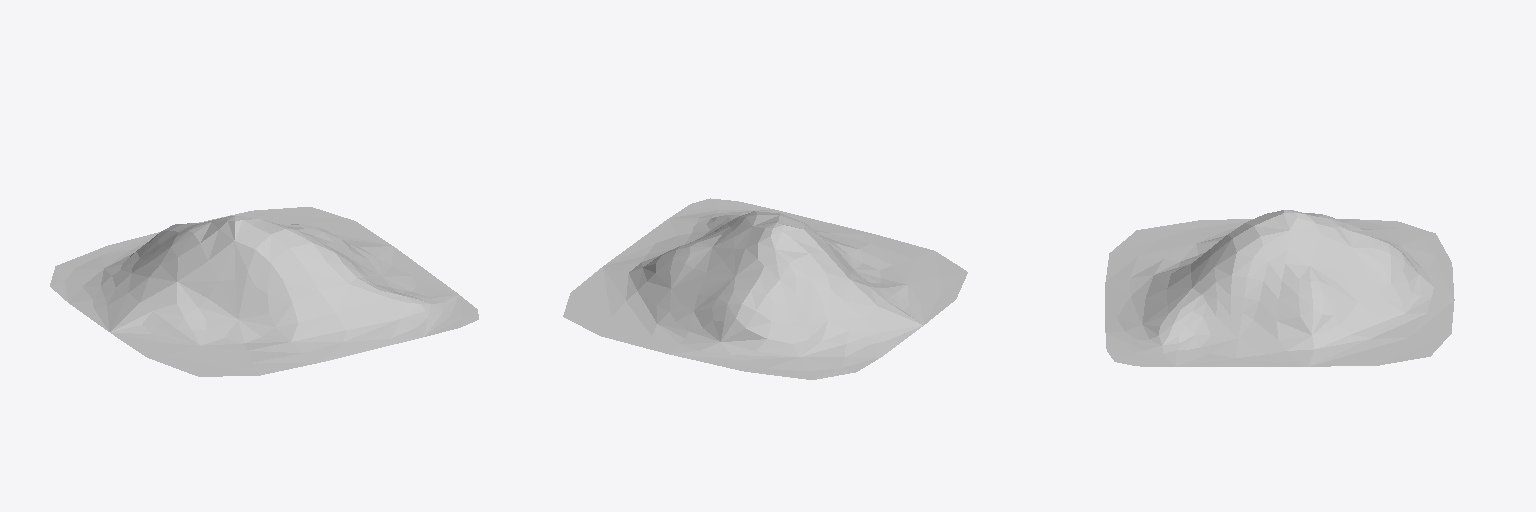
Rendered from Ground10.obj.
The picture shows the model from 3 angles: view 1: azimuth 30°, elevation 25°; view 2: azimuth 150°, elevation 25°; view 3: azimuth 270°, elevation 25°; orthographic projection.
Visible parts, largest first — view 1: Plane; view 2: Plane; view 3: Plane.
Boxes of the visible parts, x1,y1,x2,y2 form: Plane: [50, 207, 478, 376]; Plane: [563, 198, 967, 379]; Plane: [1105, 210, 1454, 366].
Size of the model in its own units: 40.01 by 9.47 by 40.